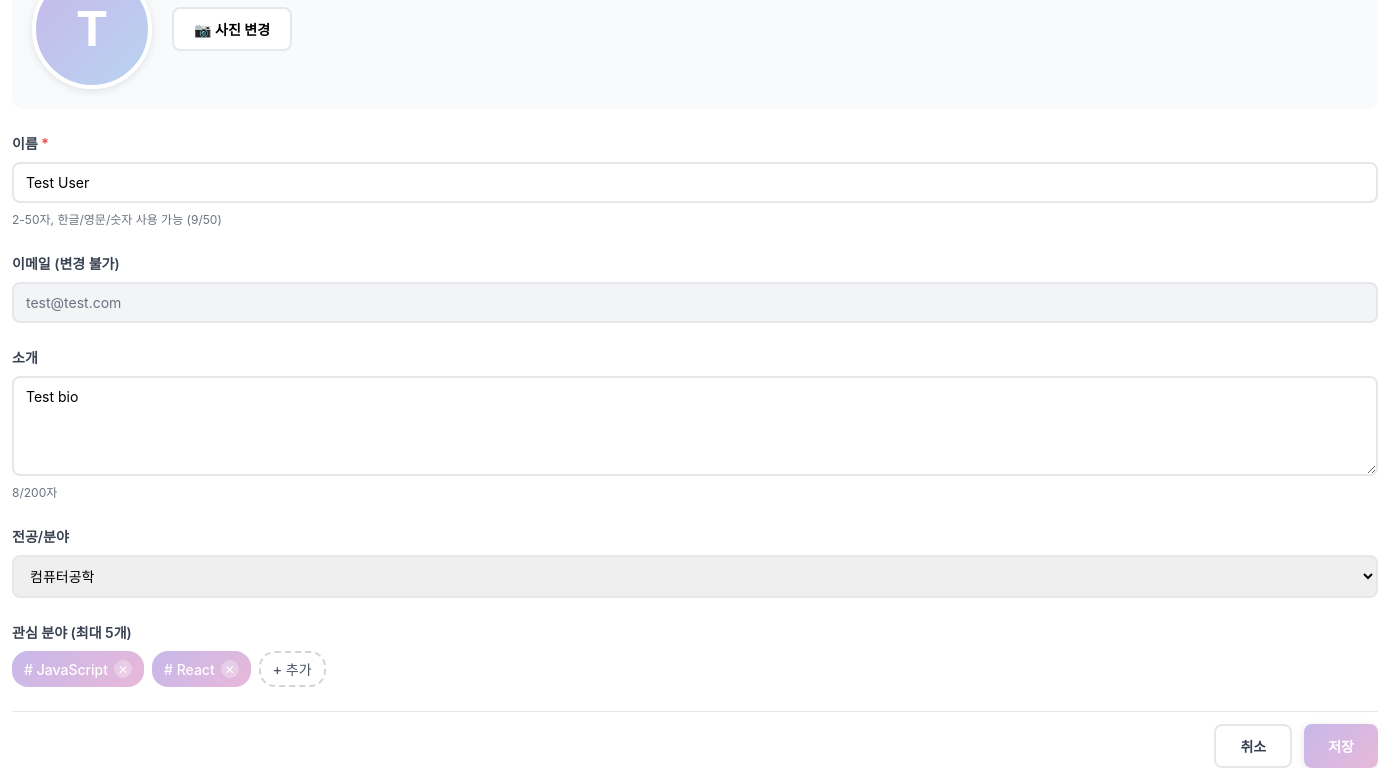
Test: ProfileEdit Component › 에러 처리 테스트 › 보안 입력 감지 (PROFILE-012)
The image size is (1390, 768).
(page scrolled)
Click the button "저장": (1341,746) [1304,724,1378,767]
(page scrolled)
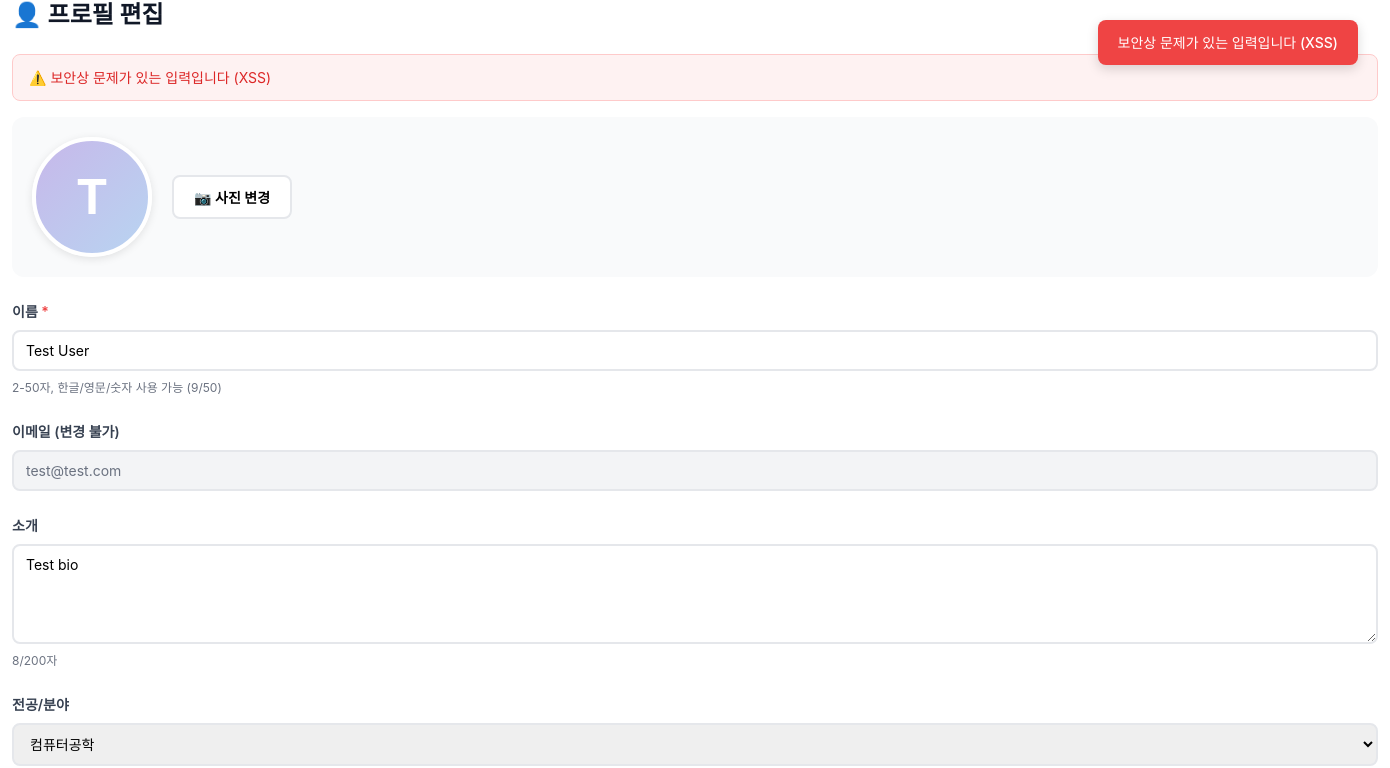
expect the text "⚠️ 보안상 문제가 있는 입력입니다 (XSS)" is shown: met, box [12,54,1378,101]
